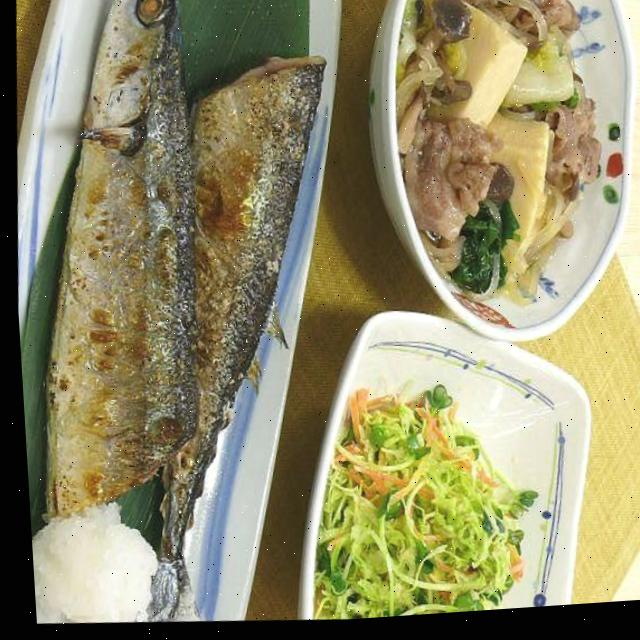熟制海鲜: (0, 0, 410, 640)
蔬菜料理: (264, 309, 623, 627)
